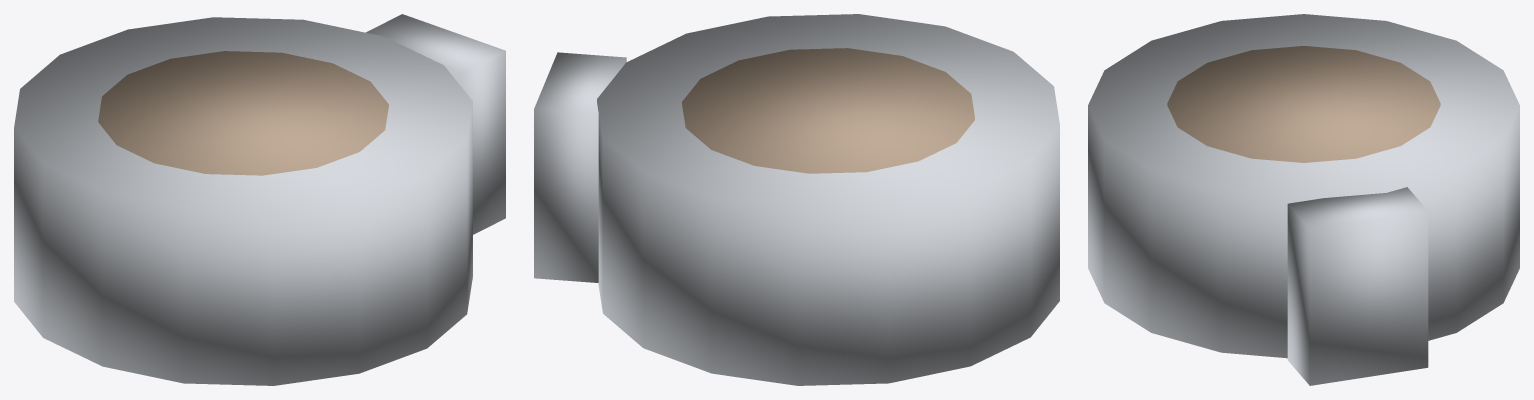
File: duct_tape.glb
3 views of the same model, side by side, from view 1: azimuth 30°, elevation 25°; view 2: azimuth 150°, elevation 25°; view 3: azimuth 270°, elevation 25° (orthographic). The views are drawn at different scales.
Visible parts, largest first — view 1: DuctTape; view 2: DuctTape; view 3: DuctTape.
Boxes of the visible parts, box(x1,y1,x2,y2) form: DuctTape: box(14, 14, 505, 385); DuctTape: box(534, 14, 1059, 385); DuctTape: box(1088, 14, 1519, 385).
Size of the model in its own units: 0.1395 by 0.051 by 0.12.
